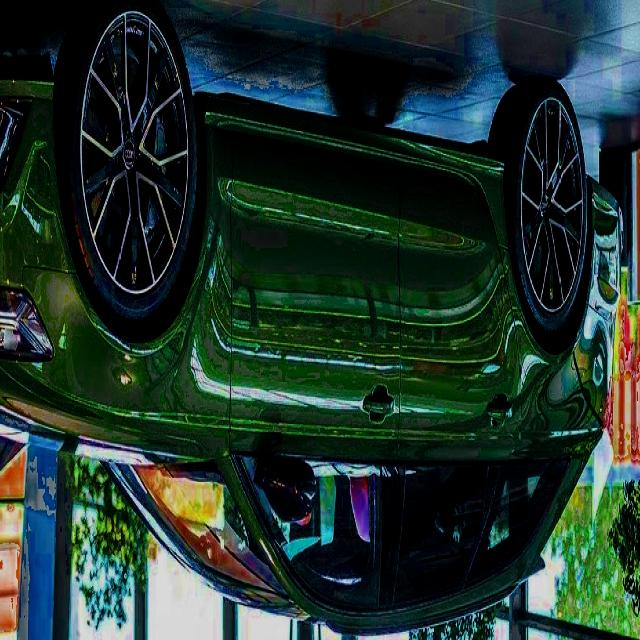green: (0, 1, 624, 639)
